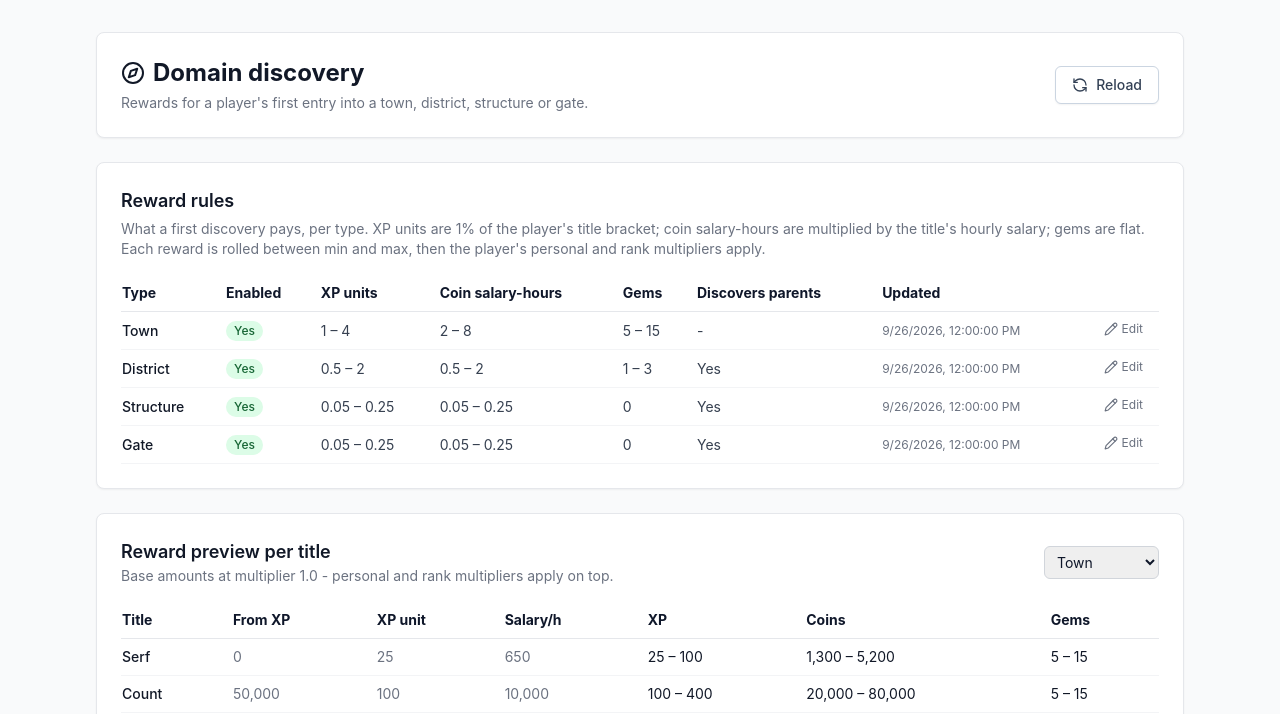
Test: DiscoveryAdminPage › turning a type with subtypes on or off › keeps Structure saved and says so when the Gate rule cannot be saved
expect the text "Serf" is shown: met, box [121, 638, 232, 676]
What coordinates should you click on to do the following:
click the button with aria-label "Edit Structure rule"
I would click on:
 (1123, 404)
Its box is [1104, 396, 1143, 412].
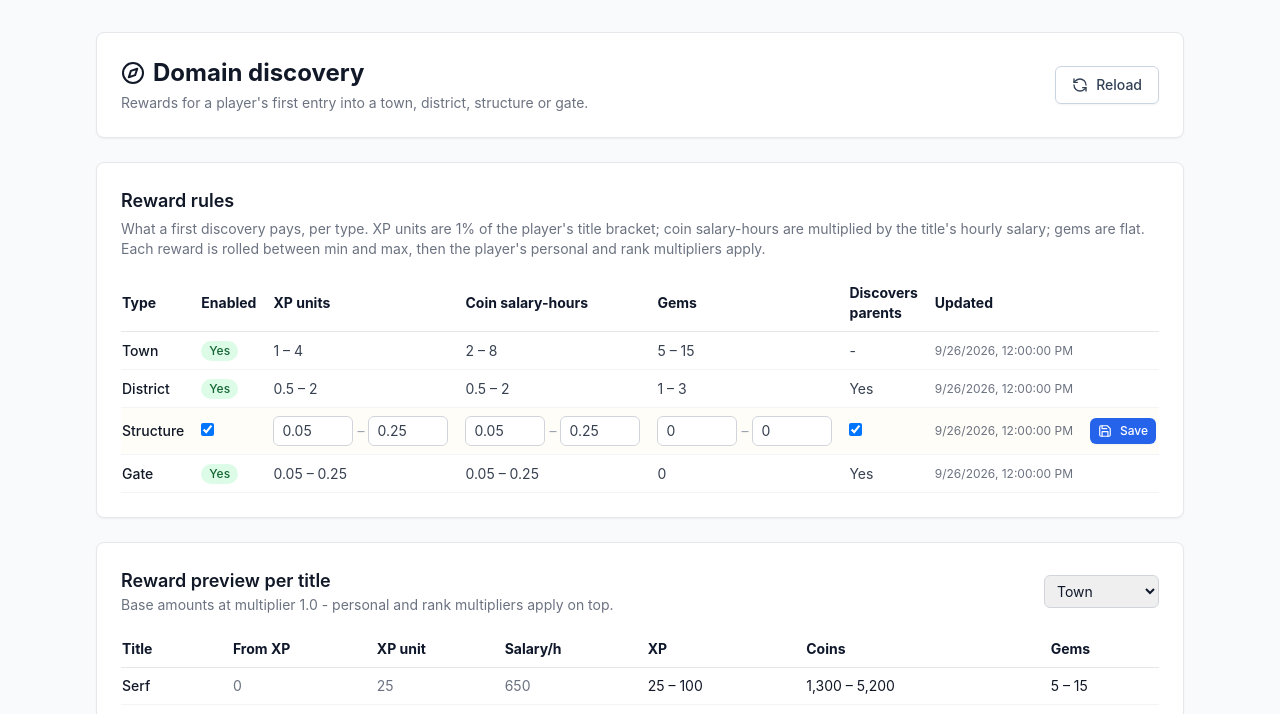
What coordinates should you click on to do the following:
click the checkbox named "Structure enabled"
I would click on:
 (208, 430)
Its box is [201, 423, 214, 436].
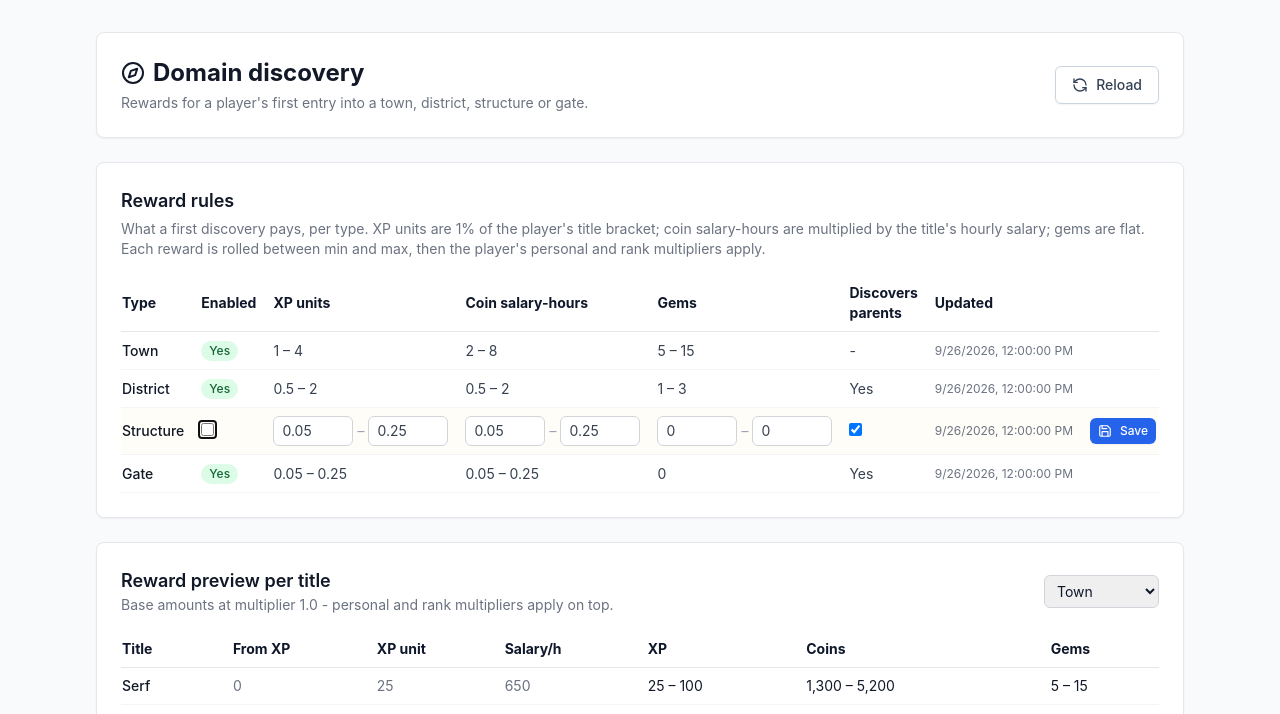
What coordinates should you click on to do the following:
click the button "Save"
I would click on:
 (1123, 431)
Its box is [1090, 418, 1156, 444].
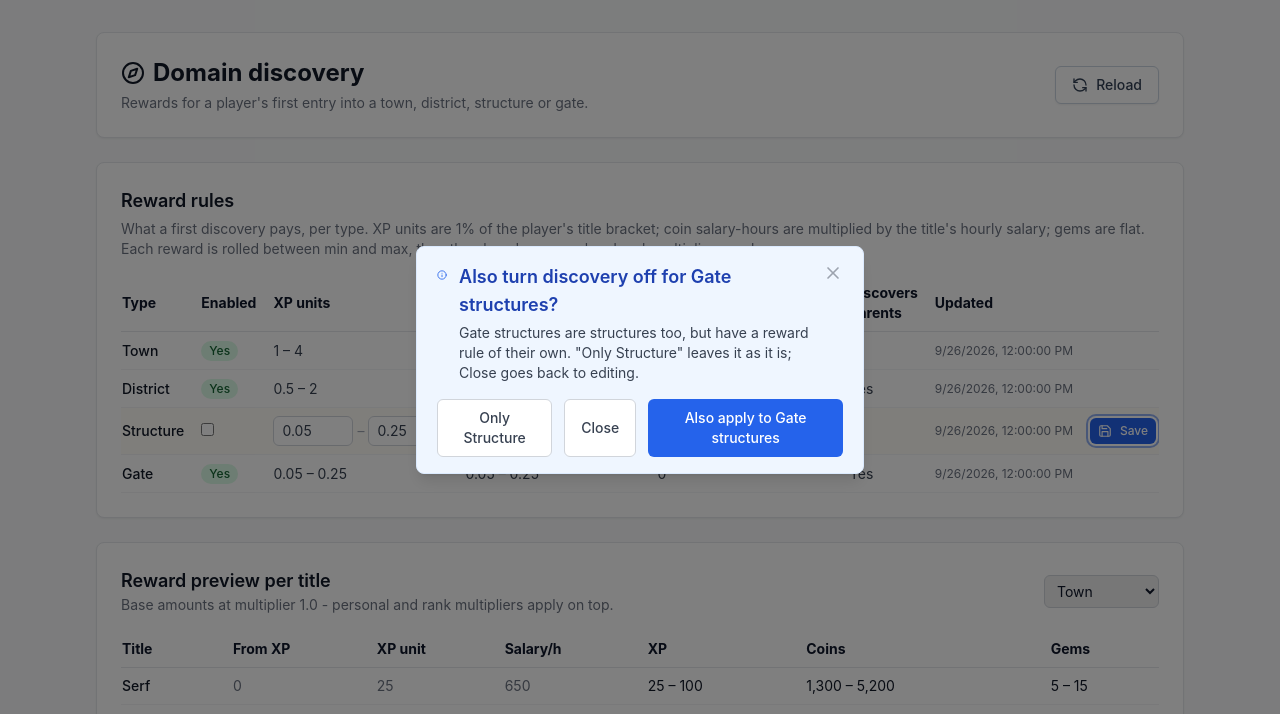
What coordinates should you click on to do the following:
click the button "Also apply to Gate structures"
I would click on:
 (746, 428)
Its box is [648, 399, 843, 457].
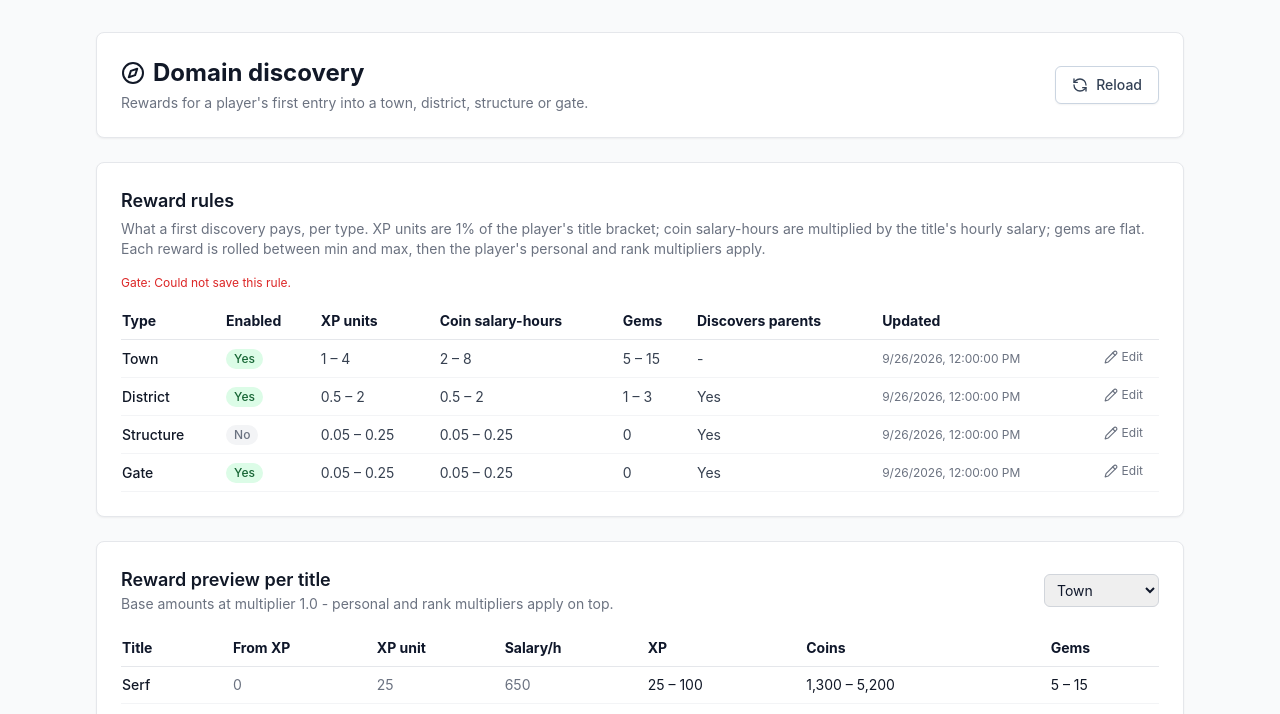
expect the 3rd text "Yes" is shown: met, box [226, 463, 263, 483]
expect the text "Gate: Could not save this rule." is shown: met, box [121, 275, 291, 290]
expect the text "No" is shown: met, box [226, 425, 258, 445]
